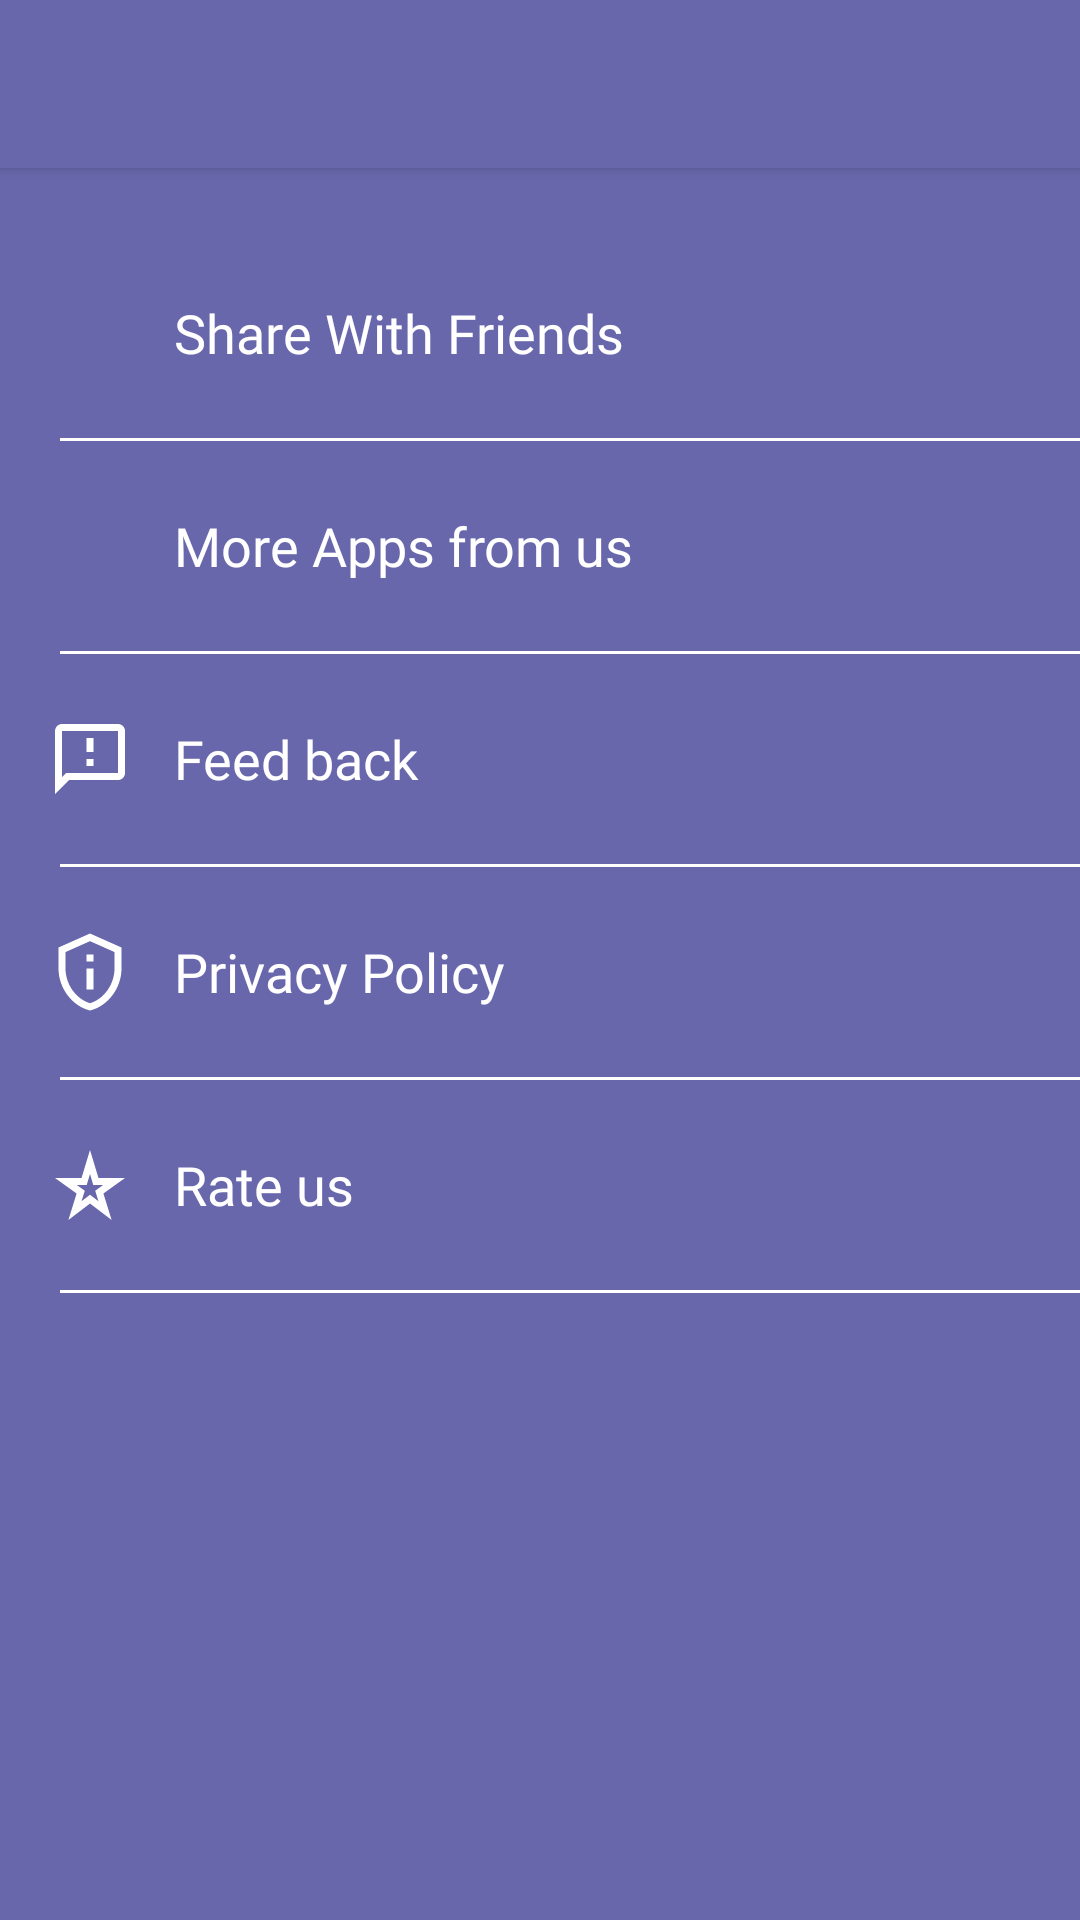

Locate icon controls on the screen. Image size 1080x1920, boxes as (x1, y1, x2, y2).
star rate: (55, 1151, 125, 1220)
